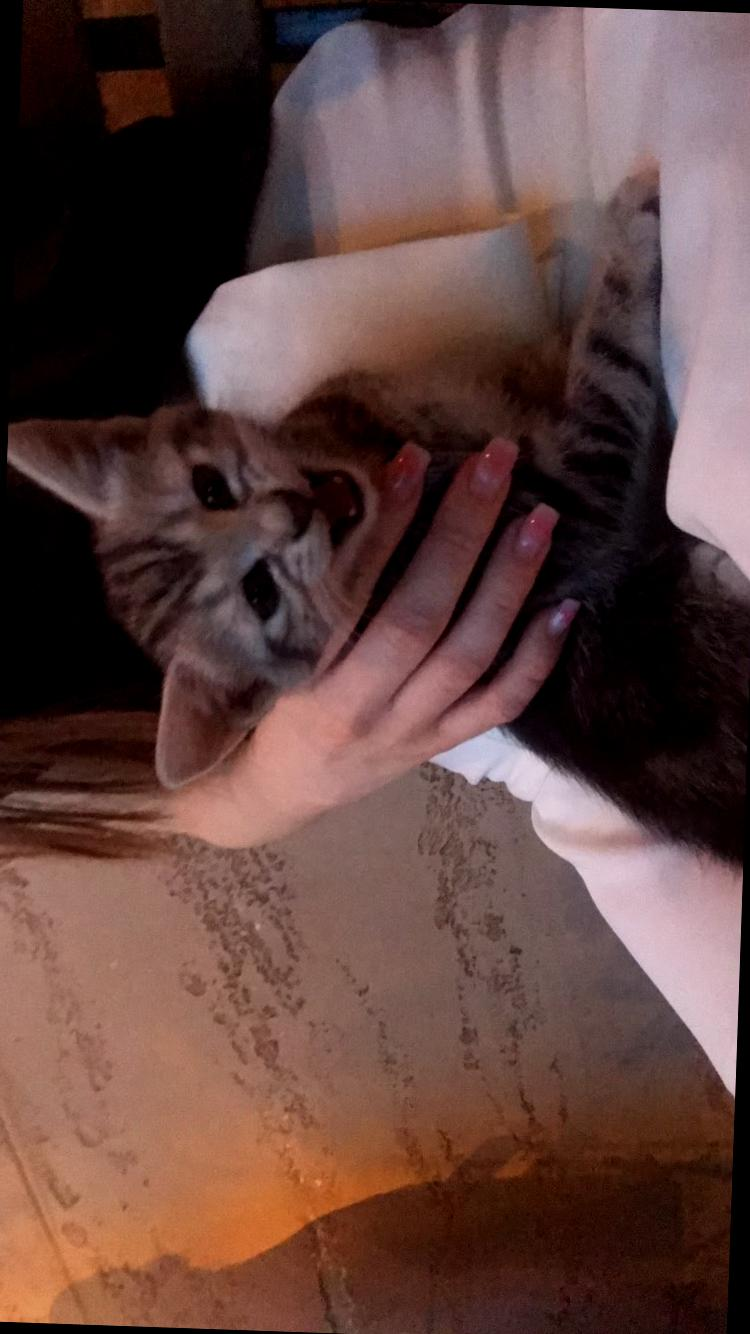macka: (0, 145, 750, 875)
